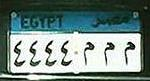4: (58, 39, 75, 67), (11, 37, 26, 68), (43, 37, 58, 67), (28, 39, 42, 67)
meem: (99, 39, 117, 67), (80, 38, 95, 65), (122, 39, 136, 67)
